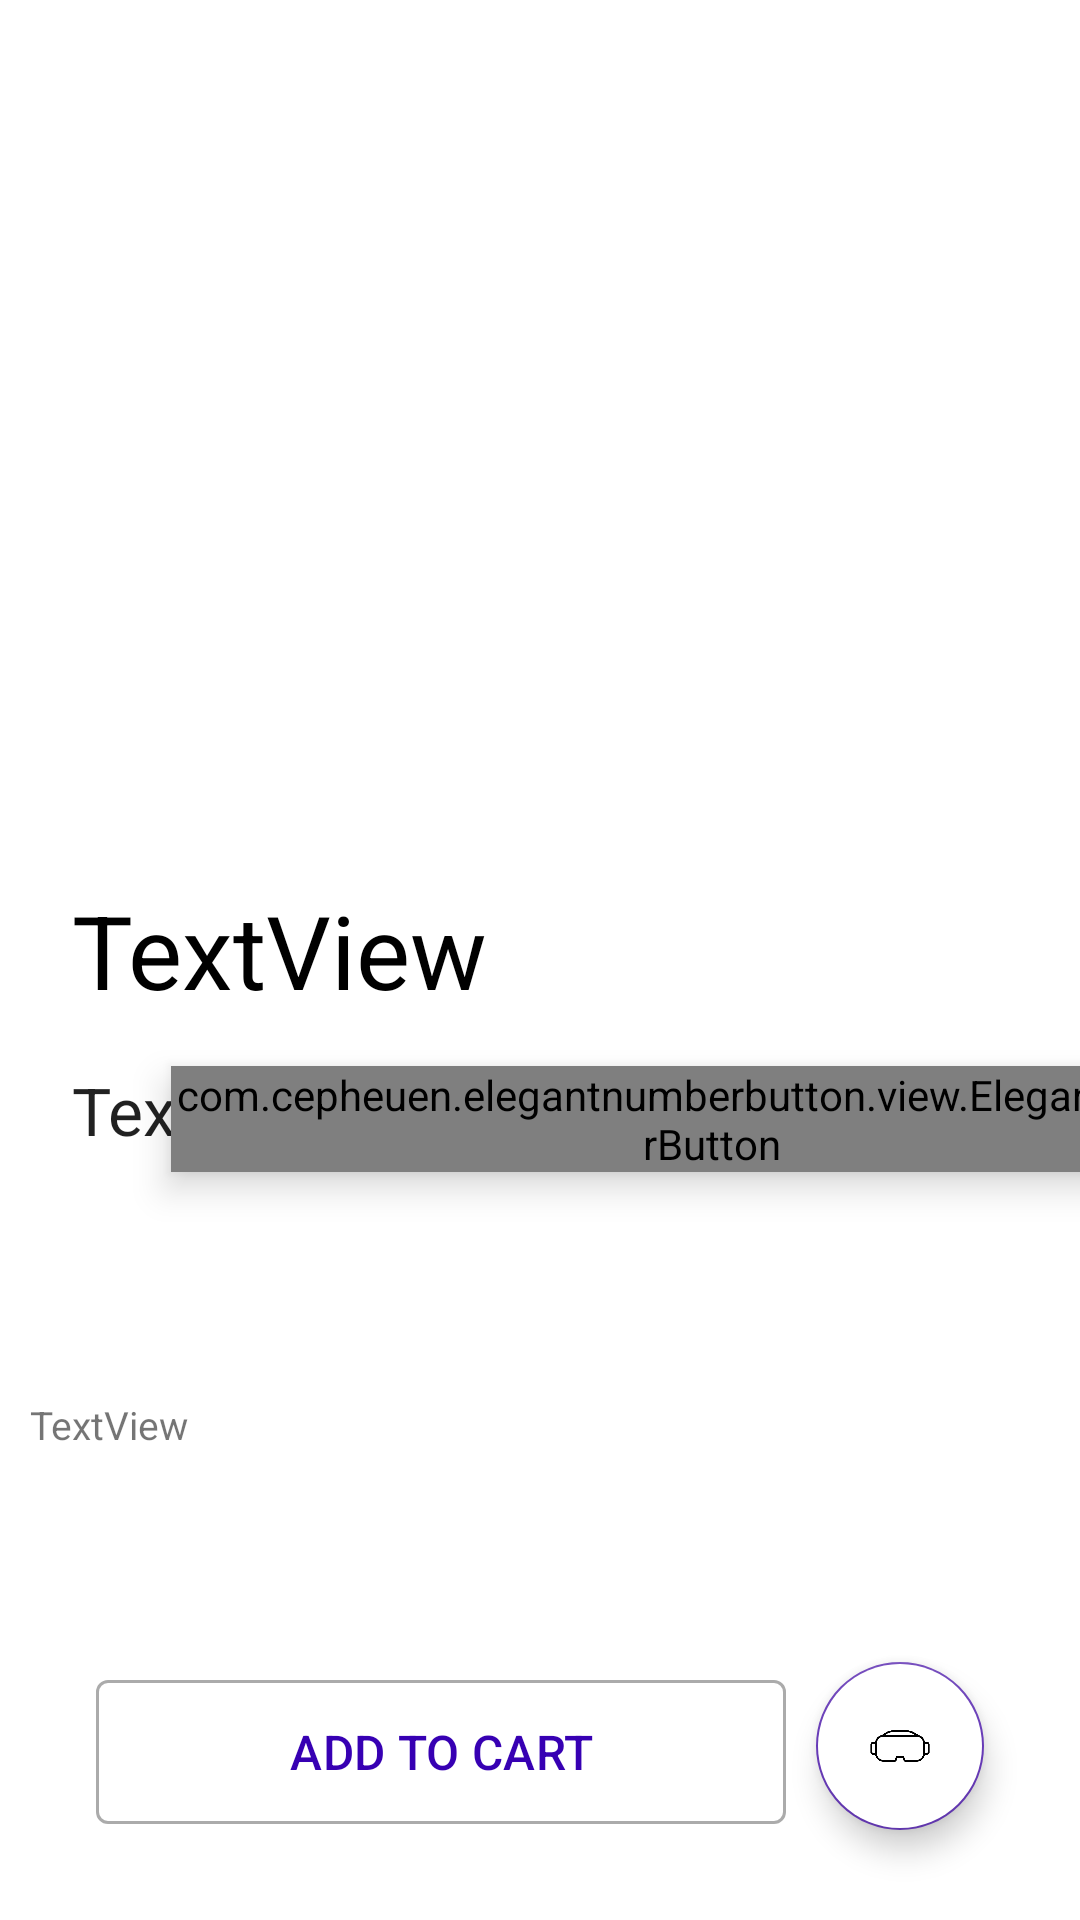

Icon click points for this 1080 × 1920 phone screenshot, format point (x, y):
vricon: point (900, 1746)
